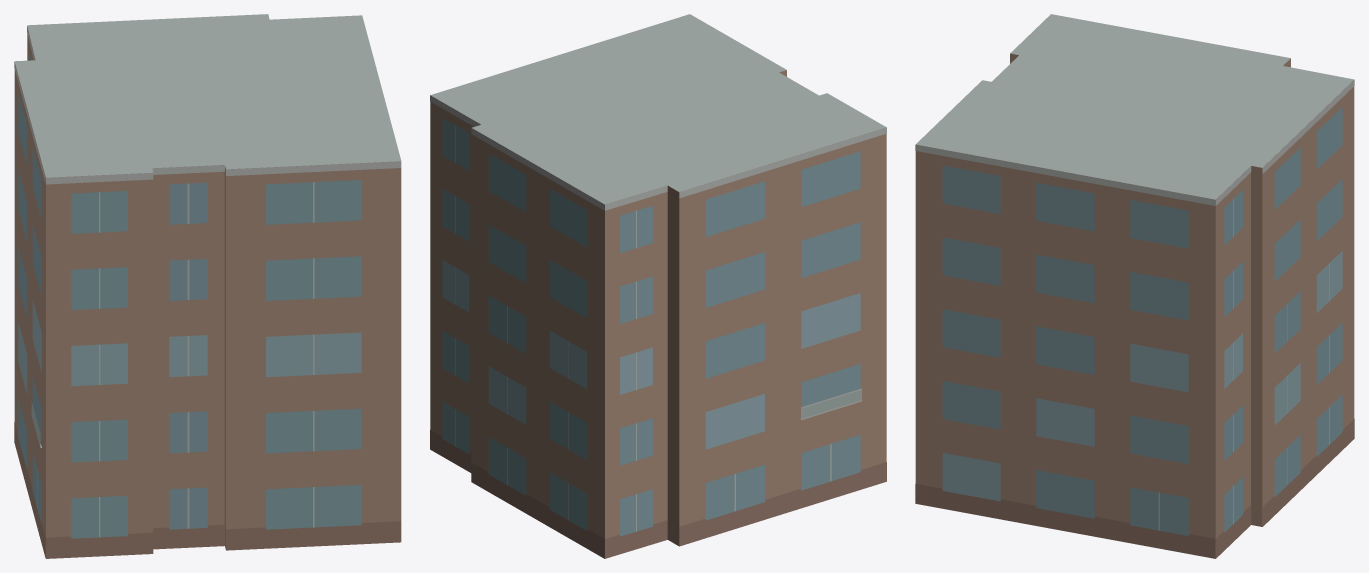
The model's file is survey-upis-32530308.glb.
3 renders of one model, left to right at view 1: azimuth 30°, elevation 25°; view 2: azimuth 150°, elevation 25°; view 3: azimuth 270°, elevation 25°, orthographic. The views are drawn at different scales.
Parts seen in each view (by area): view 1: survey-upis-32530308.tmp; view 2: survey-upis-32530308.tmp; view 3: survey-upis-32530308.tmp.
Part boxes in pixels (x1,y1,x2,y2): survey-upis-32530308.tmp: [14, 14, 401, 558]; survey-upis-32530308.tmp: [430, 14, 886, 558]; survey-upis-32530308.tmp: [915, 14, 1354, 558].
Size of the model in its own units: 15.2 by 13.7 by 15.19.
